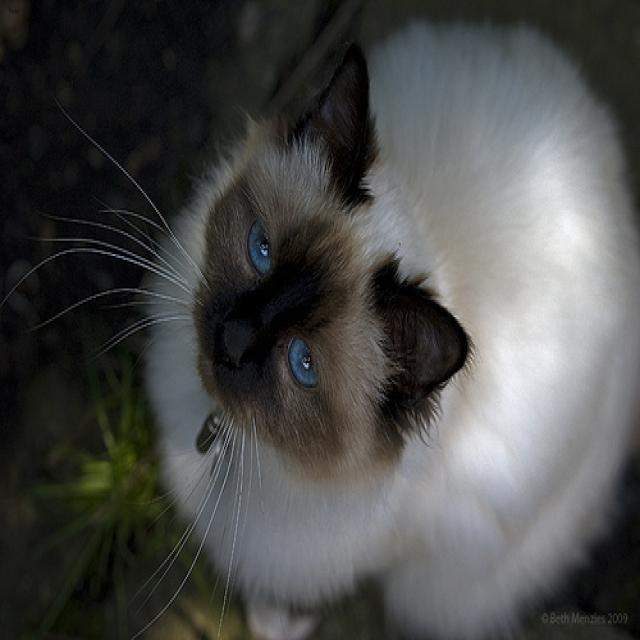Birman: (192, 40, 466, 449)
